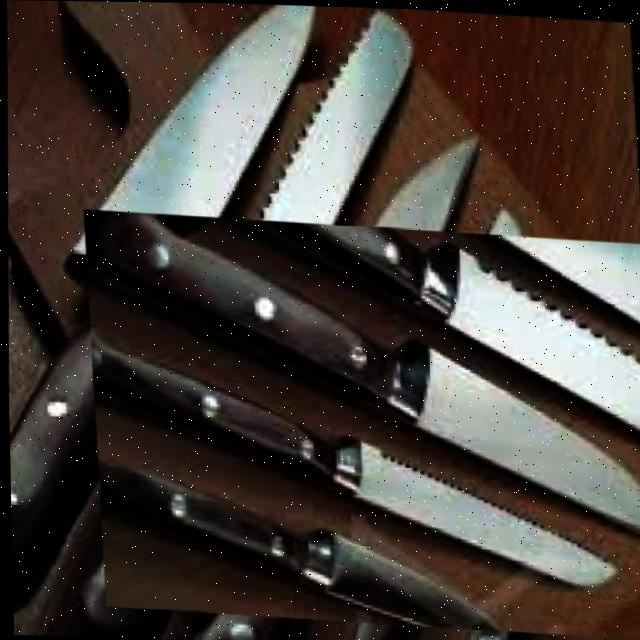knife: (123, 161, 640, 640)
